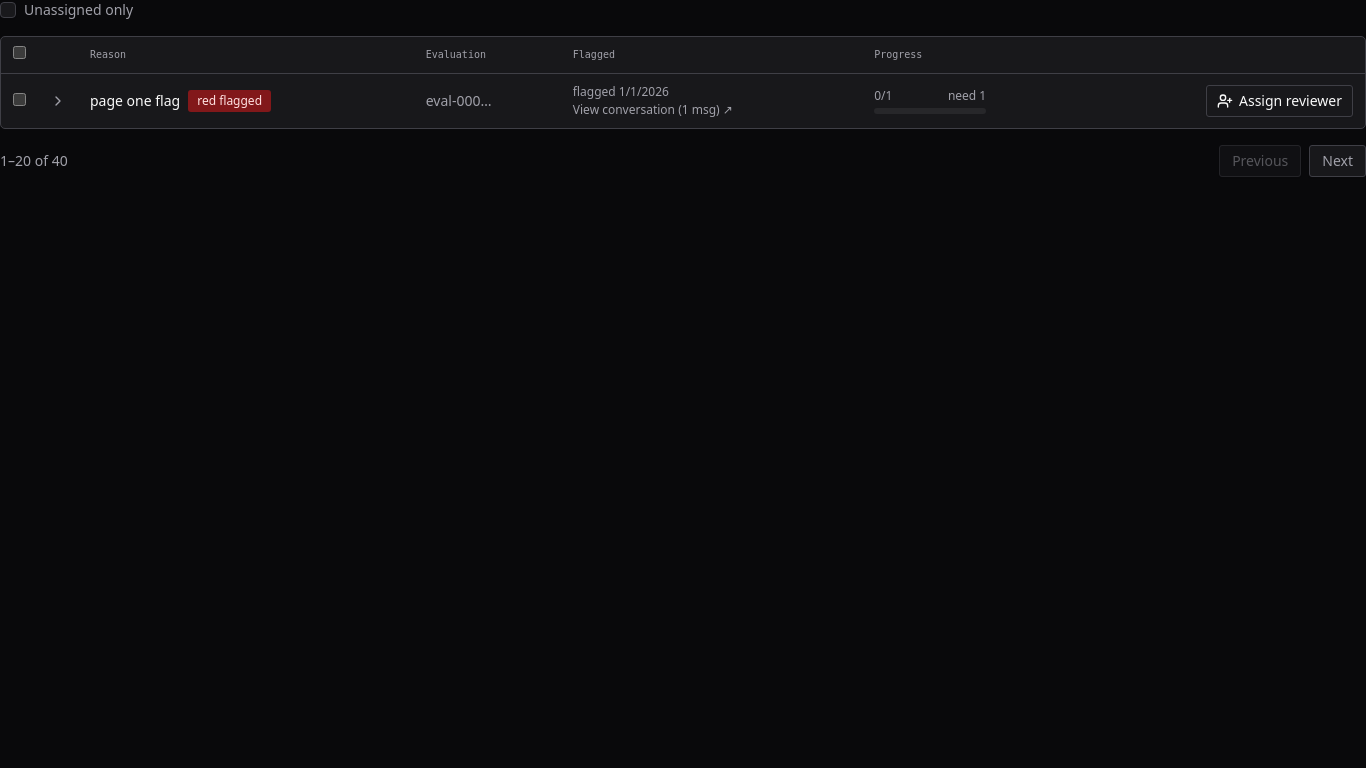
Scenario: ReviewQueuePage — batch selection › per-row Assign reviewer opens the single-flag dialog
The image size is (1366, 768).
Expected: the link "page one flag" is shown, [90, 90, 180, 110]
Note: Named by its row, so one button is distinguishable from the next while the label is hidden.
Click the button with aria-label "Assign reviewer to: page one flag". click: (1280, 100)
box: [1206, 84, 1353, 116]
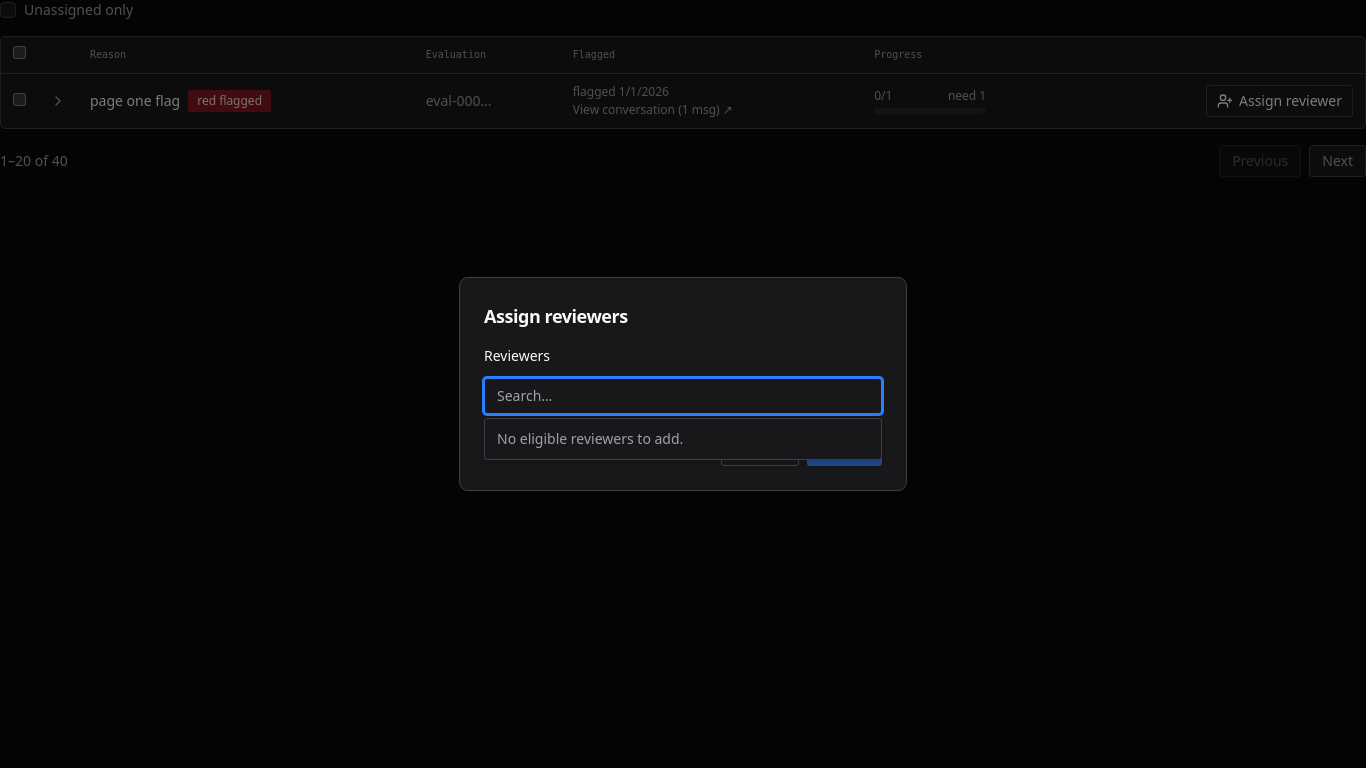
Now the heading "Assign reviewers" is shown, box [484, 304, 628, 328]
